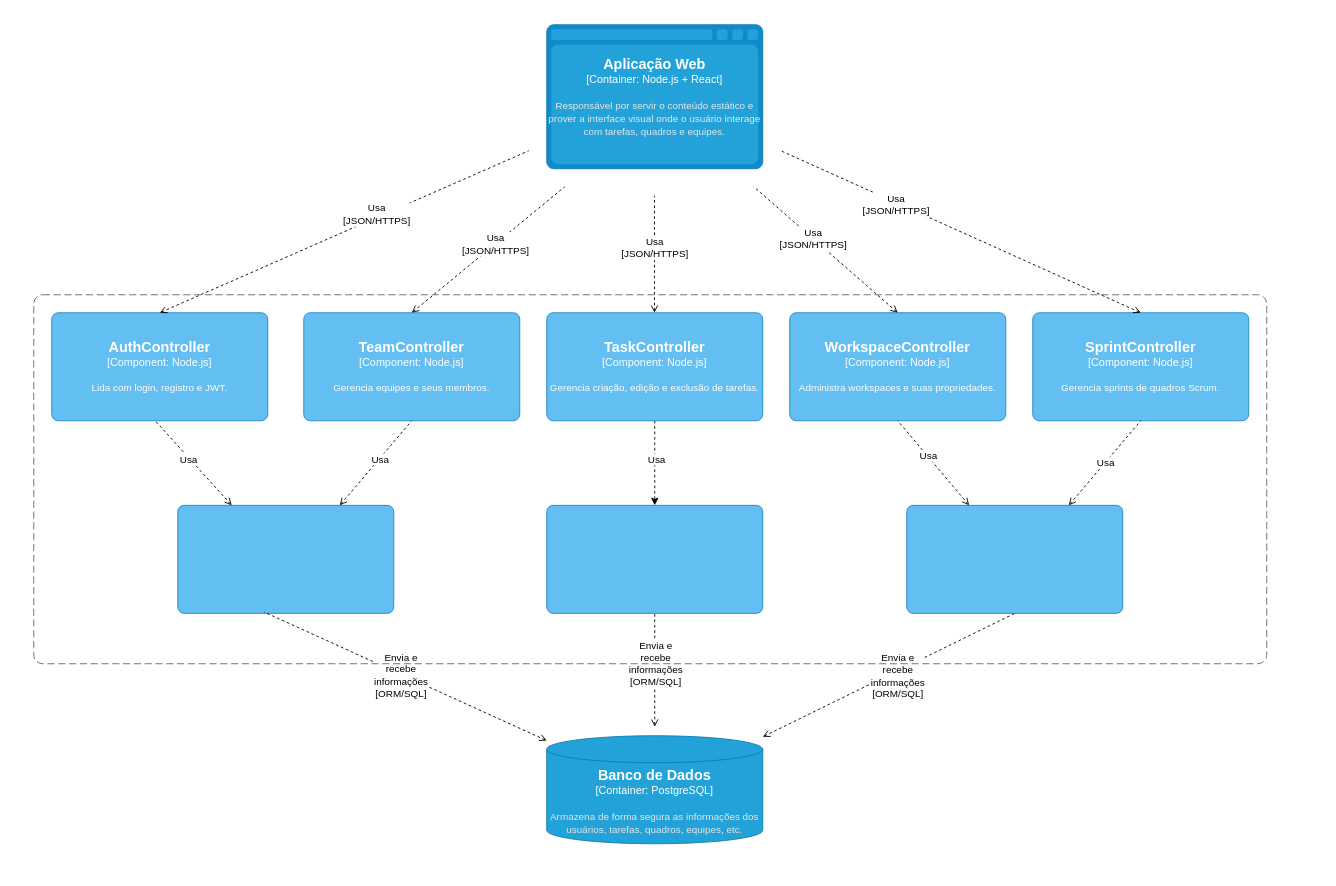
Some shapes in this 1336 by 886 pixel diagram are drawn without their labels. The shapes that lost their labels are listed below. From the top down, each one's box as (x1, y1, x2, y2) in pixels, then its label:
(33, 294, 1267, 664): API Application [Container]
(177, 504, 394, 613): UserService [Component: Node.js] Lógica para perfis e autenticação.
(546, 504, 763, 613): TaskService [Component: Node.js] Lógica de negócios para tarefas.
(906, 504, 1123, 613): WorkspaceService [Component: Node.js] Gerencia regras e fluxo dos quadros.
